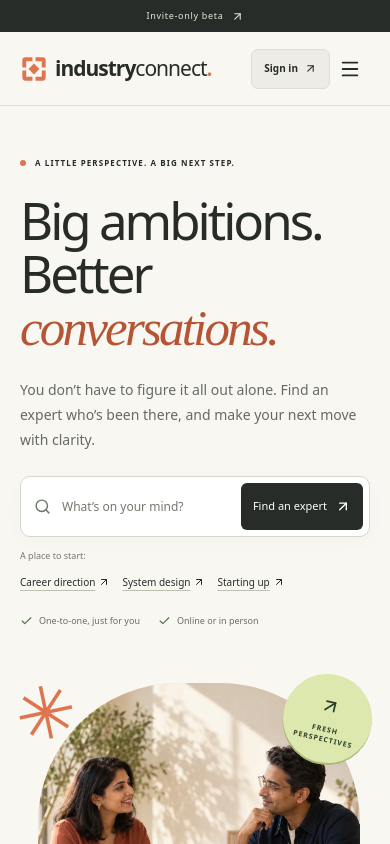
Test: customer UI › closes the mobile navigation after selecting a destination
The image size is (390, 844).
Step 1. Click the button named "Open navigation" → (350, 68), box x1=330 y1=48 x2=370 y2=88
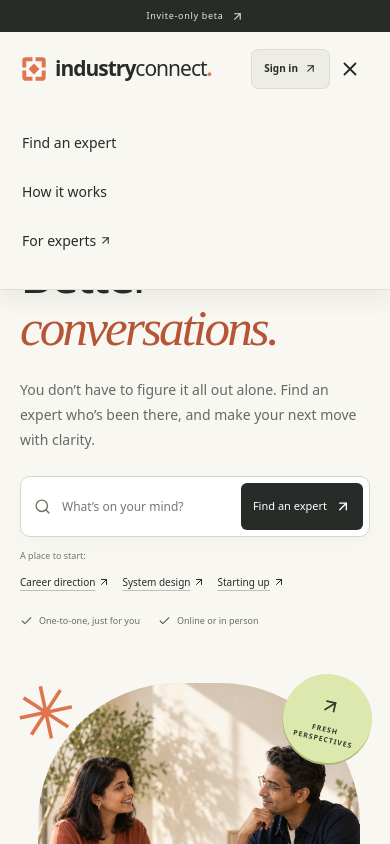
Check: the button named "Open navigation" is expanded, box x1=330 y1=48 x2=370 y2=88
Step 2. Click the link "How it works" → (64, 192), box x1=22 y1=182 x2=107 y2=201
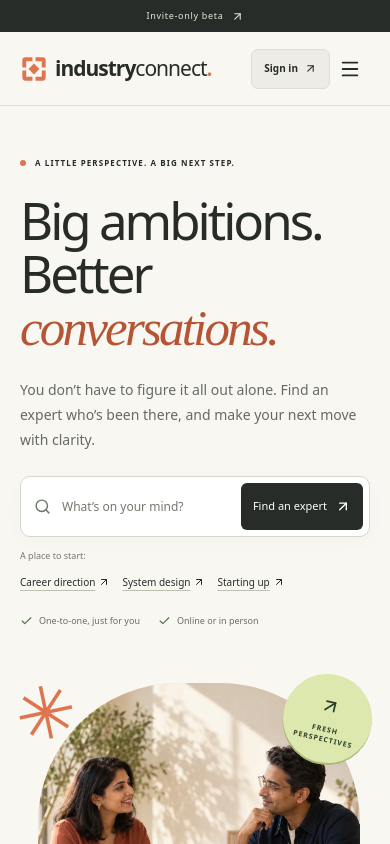
Check: the button named "Open navigation" is collapsed, box x1=330 y1=48 x2=370 y2=88
